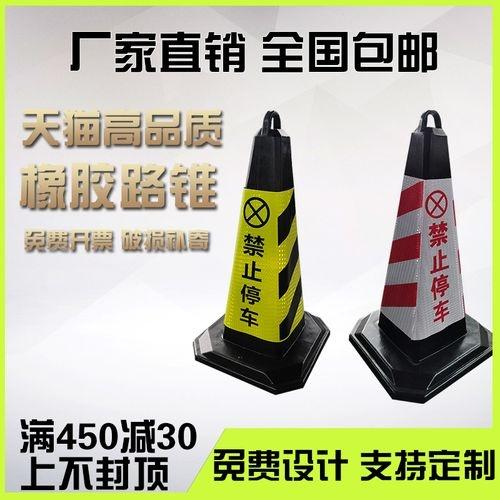cone_barrel: (347, 108, 486, 399), (195, 107, 330, 383)
